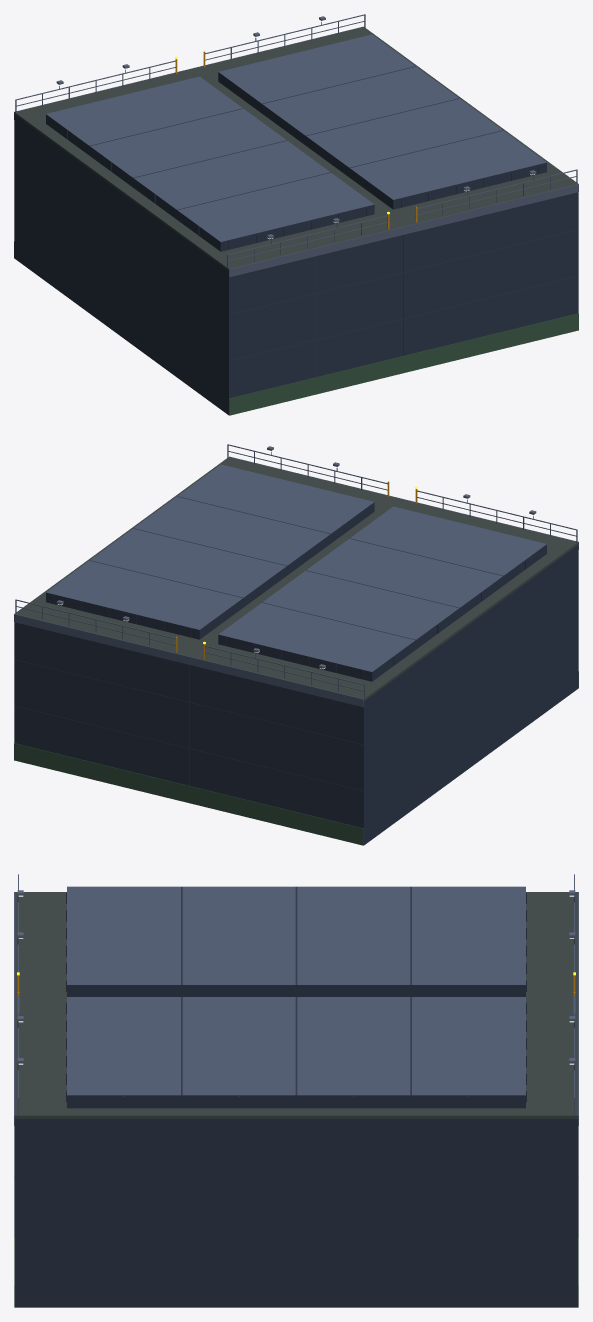
File: port_ship_mid.glb
The picture shows the model from 3 angles, top to bottom: view 1: azimuth 30°, elevation 25°; view 2: azimuth 150°, elevation 25°; view 3: azimuth 270°, elevation 25°; orthographic projection. The views are drawn at different scales.
Visible parts, largest first — view 1: hull, deck, boot_top, railing, trim; view 2: hull, deck, boot_top, railing, trim; view 3: hull, deck, railing.
Part boxes in pixels (x1,y1,x2,y2): hull: (14,34,578,415); deck: (14,27,578,271); boot_top: (14,241,578,415); railing: (14,14,578,277); trim: (229,213,578,377); hull: (14,464,578,845); deck: (14,457,578,701); boot_top: (14,671,578,845); railing: (14,444,578,707); trim: (14,643,363,807); hull: (15,886,577,1307); deck: (15,892,577,1118); railing: (14,874,578,1125).
Bounding box in the file's own units: 30 × 13.76 × 32.
